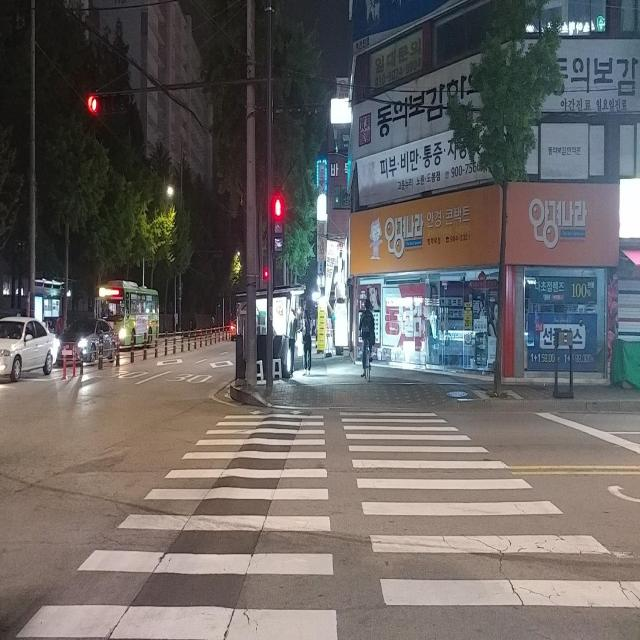빨간불: (271, 198, 284, 252)
횡단보도: (15, 408, 640, 640)
